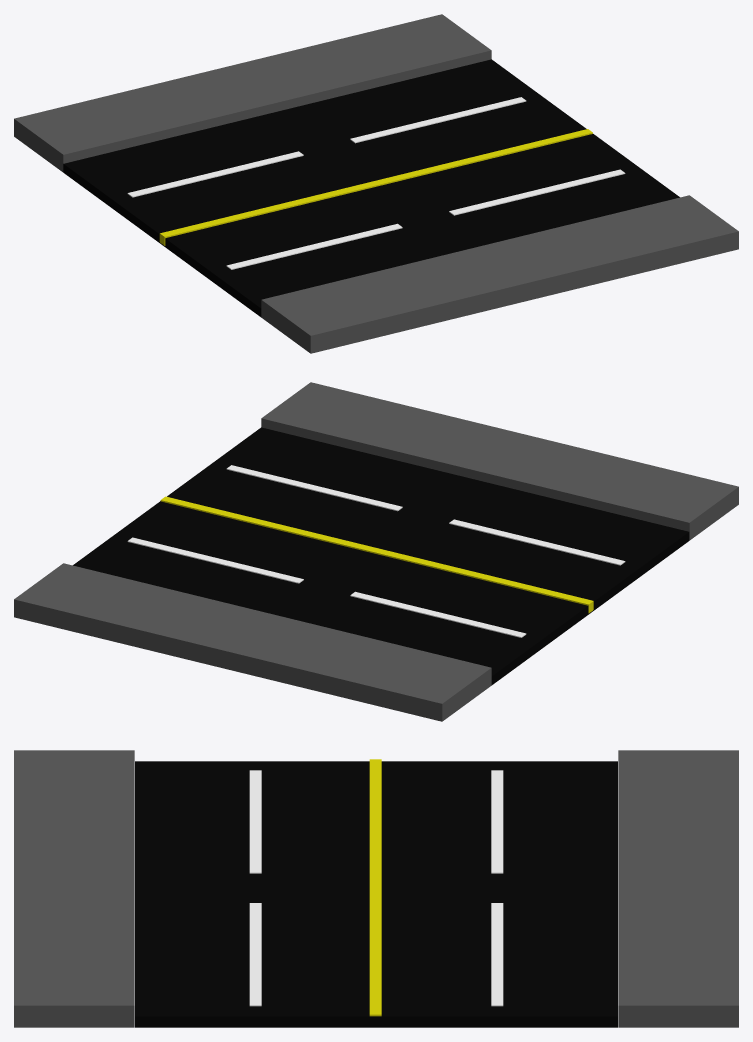
Rendered from Duble Yol 2.fbx.
3 views of the same model, one above another, from view 1: azimuth 30°, elevation 25°; view 2: azimuth 150°, elevation 25°; view 3: azimuth 270°, elevation 25° (orthographic). The views are drawn at different scales.
Visible parts, largest first — view 1: Duble Yol 2; view 2: Duble Yol 2; view 3: Duble Yol 2.
Boxes of the visible parts, x1,y1,x2,y2 form: Duble Yol 2: (14,14,738,353); Duble Yol 2: (14,382,738,721); Duble Yol 2: (14,750,738,1027).
Size of the model in its own units: 500 by 20 by 600.
